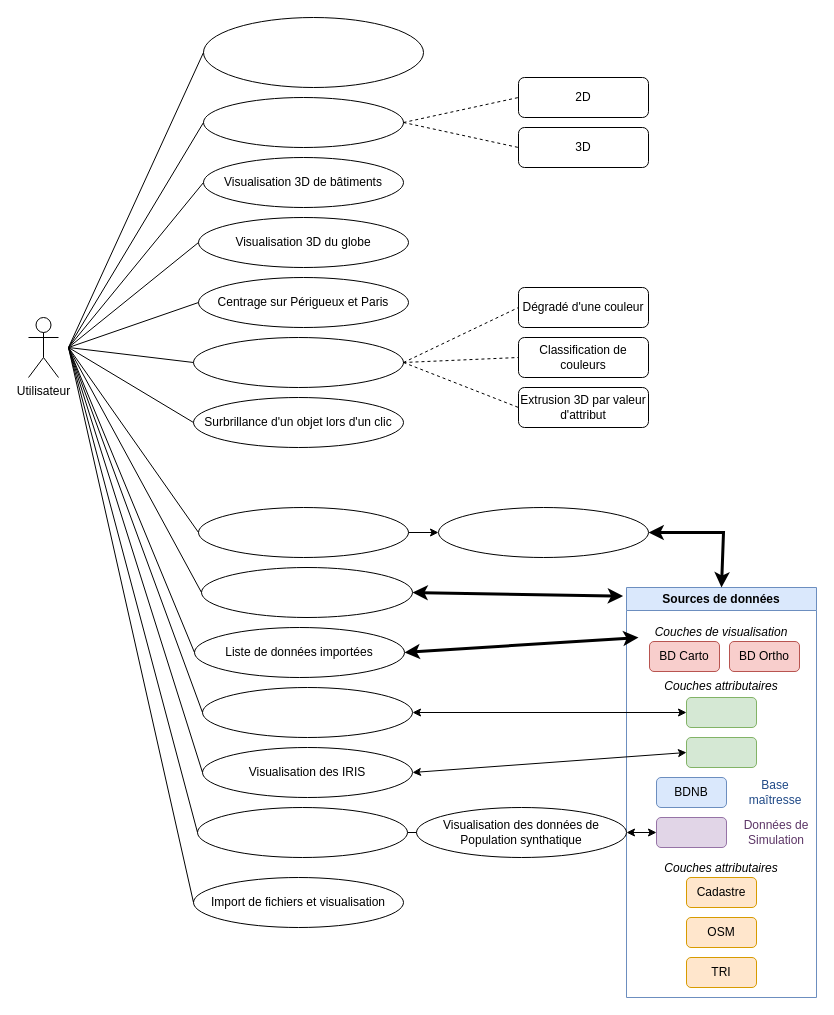
Some shapes in this 834 by 1015 pixel diagram are drawn without their labels. The shapes that lost their labels are listed below. From the top down, each one's centre as x and y in pixels, then its label:
point 313,52: Visualisation des informations sur les sources de données
point 303,122: Changement de point de vue
point 298,362: Stylisation par thème
point 303,532: Sélection d'un objet au clic avec affichage d'informations
point 543,532: Lien entre un objet et différentes sources de données
point 306,592: Visualisation de la provenance des données
point 307,712: Visualisation des données par IRIS
point 721,712: INSEE
point 721,752: BD Topo
point 302,832: Déplacement de la vue sur Paris
point 691,832: Population synthétique
